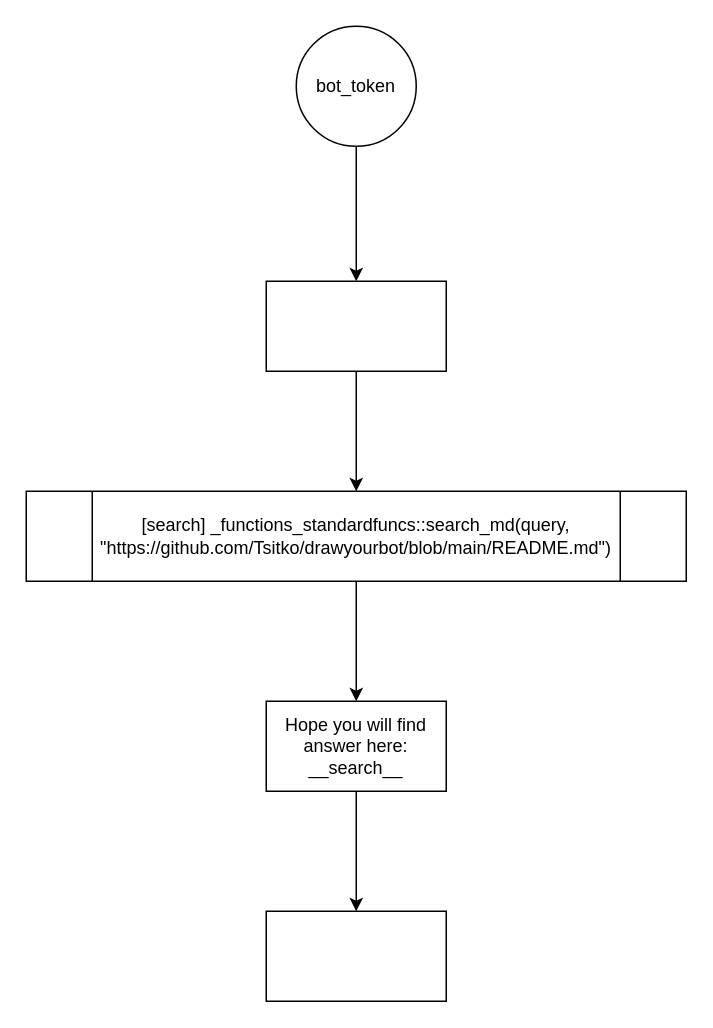
The diagram is 713 pixels wide and 1028 high, and some of its shapes have lost their labels. The centre of each missing label's shape, as x and y in pixels:
"[query] what are you looking for?" goes at pixel 355 325.
"If you have more questions, use /start command" goes at pixel 355 955.
